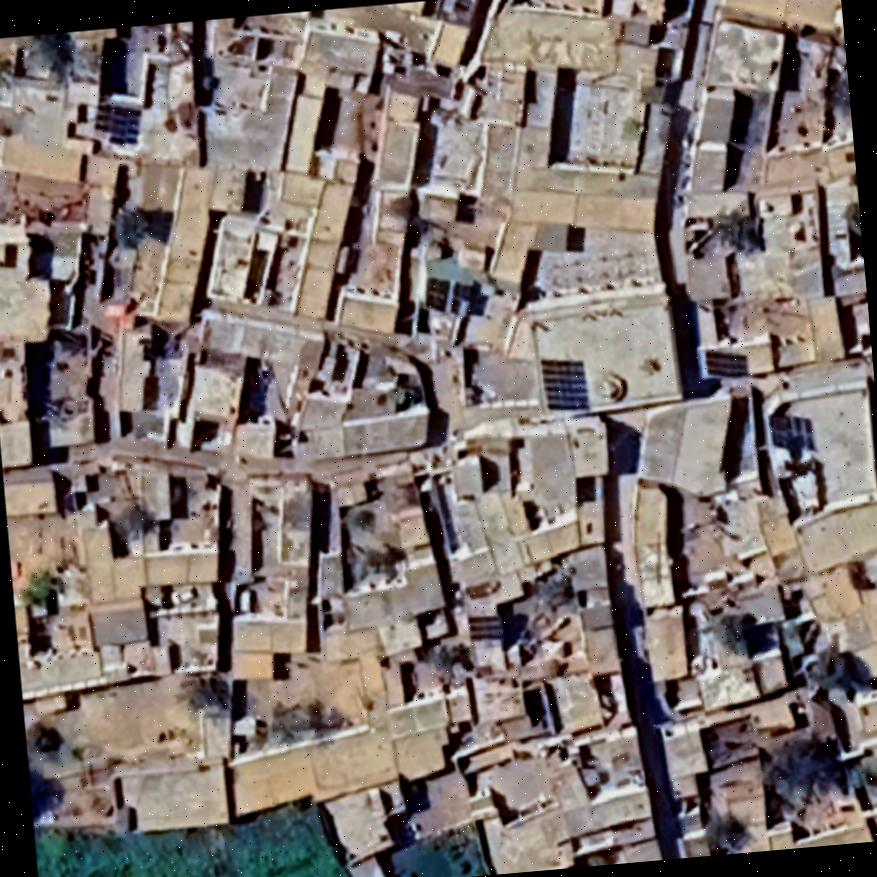Solarpanel: (534, 349, 596, 421), (87, 91, 150, 152), (765, 406, 818, 456), (698, 340, 754, 387), (464, 608, 509, 648)
